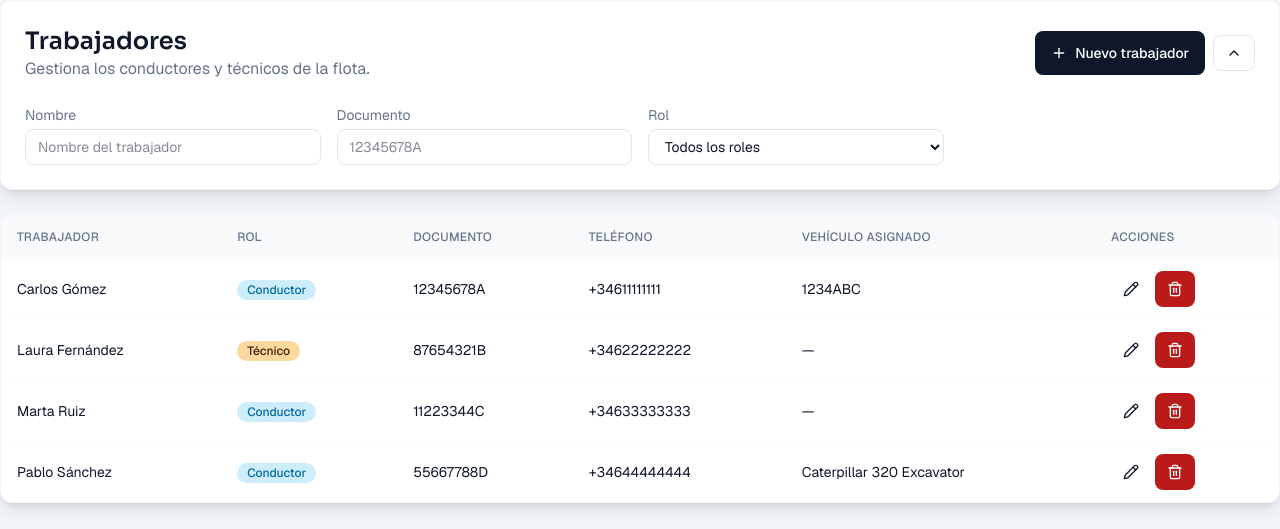
Workers › narrows the worker list with the name filter
Expected: the text "Carlos Gómez" is shown, x1=1 y1=259 x2=221 y2=320
In the field named "buscar por nombre": (173, 147) x1=25 y1=129 x2=320 y2=165, type "Laura"
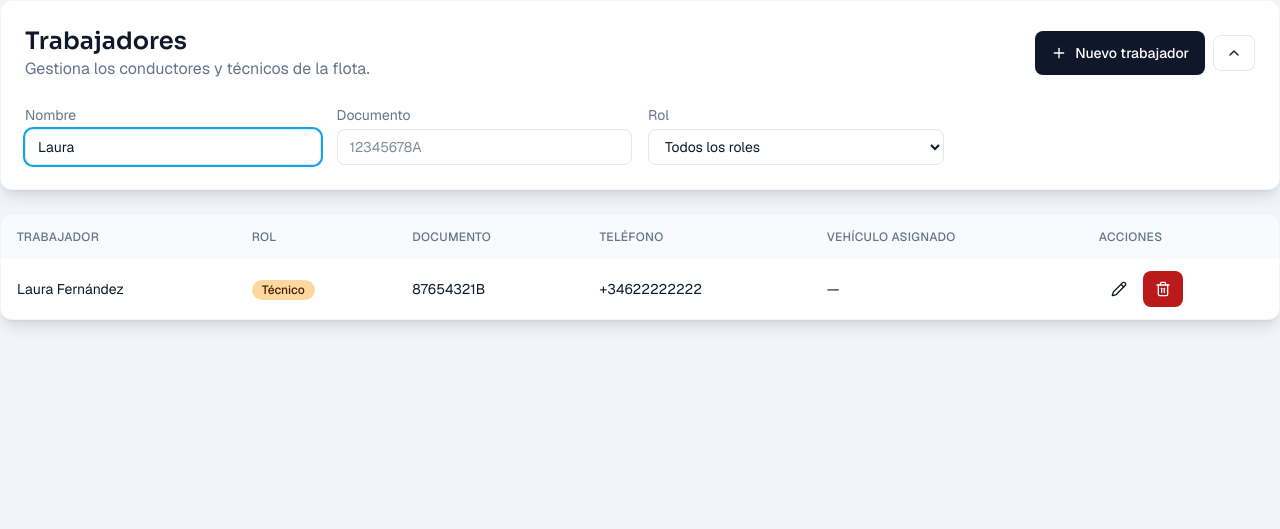
Expected: the text "Laura Fernández" is shown, x1=1 y1=259 x2=236 y2=319
Result: the text "Carlos Gómez" is gone
